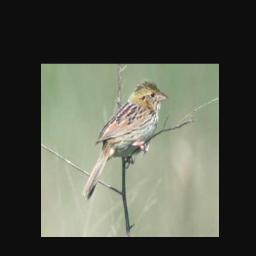Sparrow: (79, 78, 170, 202)
